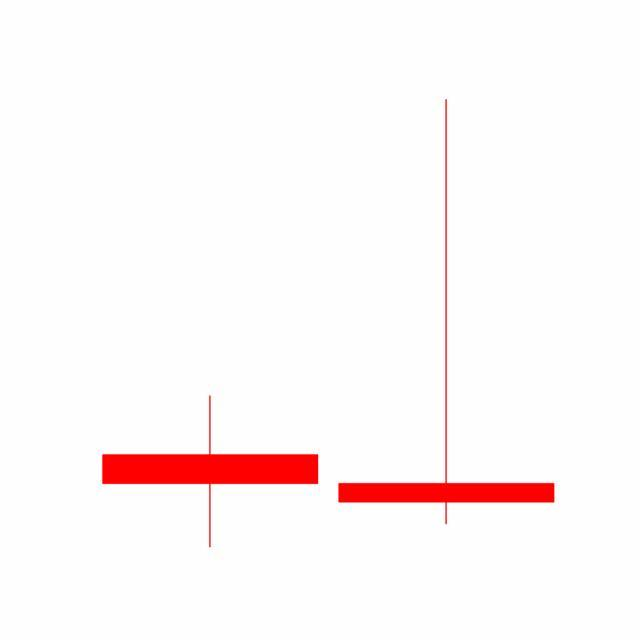Spinning Top: (328, 94, 566, 529)
